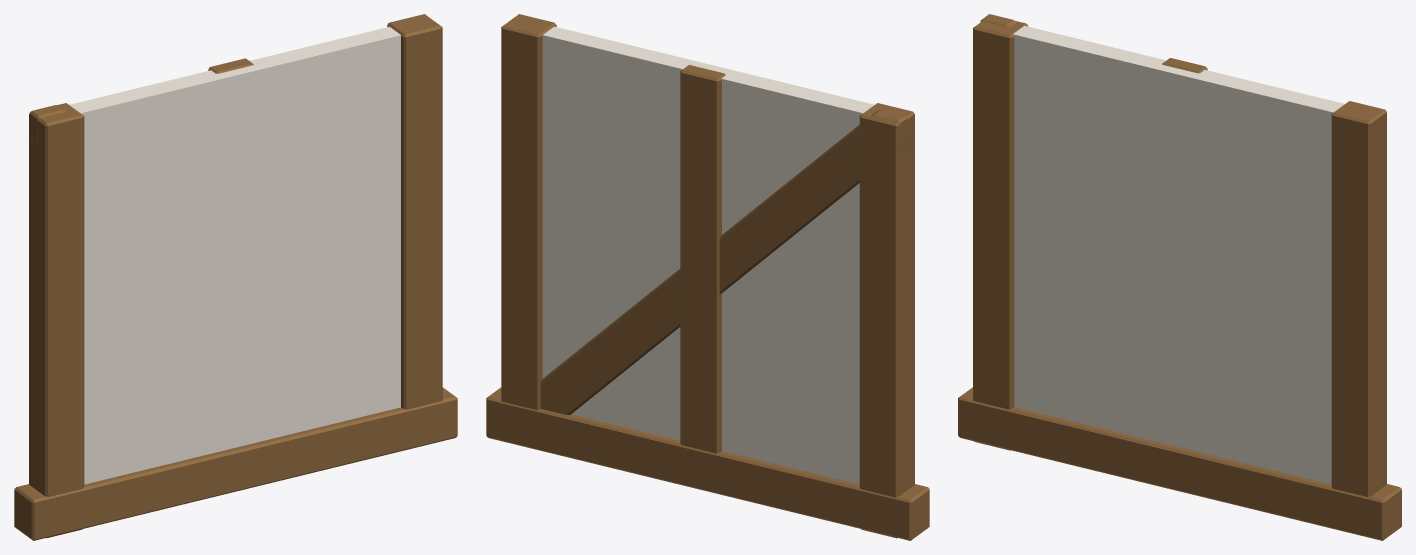
Rendered from WallVDiagR.fbx.
3 renders of one model, left to right at view 1: azimuth 30°, elevation 25°; view 2: azimuth 150°, elevation 25°; view 3: azimuth 330°, elevation 25°, orthographic.
Parts seen in each view (by area): view 1: Cube.103, Cube.109, Cube.112, Cube.108; view 2: Cube.103, Cube.109, Cube.112, Cube.111, Cube.108, Cube.104; view 3: Cube.103, Cube.108, Cube.112, Cube.109.
Part boxes in pixels (left/top/right/bottom): Cube.103: left=69, top=26, right=400, bottom=484; Cube.109: left=29, top=103, right=84, bottom=537; Cube.112: left=14, top=387, right=457, bottom=540; Cube.108: left=387, top=14, right=442, bottom=409; Cube.103: left=542, top=26, right=874, bottom=484; Cube.109: left=859, top=103, right=914, bottom=538; Cube.112: left=486, top=387, right=929, bottom=540; Cube.111: left=540, top=110, right=907, bottom=414; Cube.108: left=501, top=14, right=556, bottom=410; Cube.104: left=680, top=65, right=725, bottom=453; Cube.103: left=1013, top=25, right=1344, bottom=484; Cube.108: left=1331, top=101, right=1386, bottom=496; Cube.112: left=958, top=387, right=1401, bottom=540; Cube.109: left=973, top=21, right=1028, bottom=450.
Bounding box in the file's own units: 216 × 202 × 17.27.
